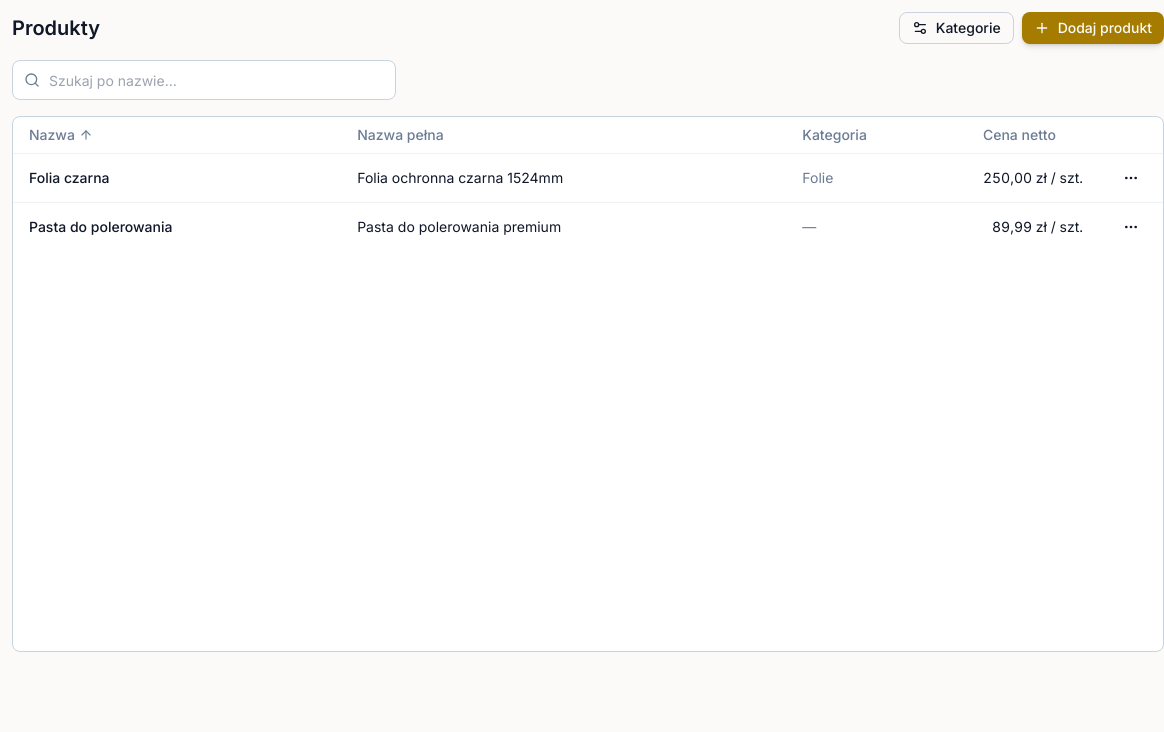
Test: SalesProductsView › dropdown menu contains delete option for a product
This screenshot has width=1164, height=732.
Expected: the text "Folia czarna" is shown, [13, 153, 341, 202]
Note: MoreHorizontal buttons have no visible text label
Click the button without text in the row of "Folia czarna" at {"x": 1131, "y": 178}, box [1115, 162, 1147, 194]
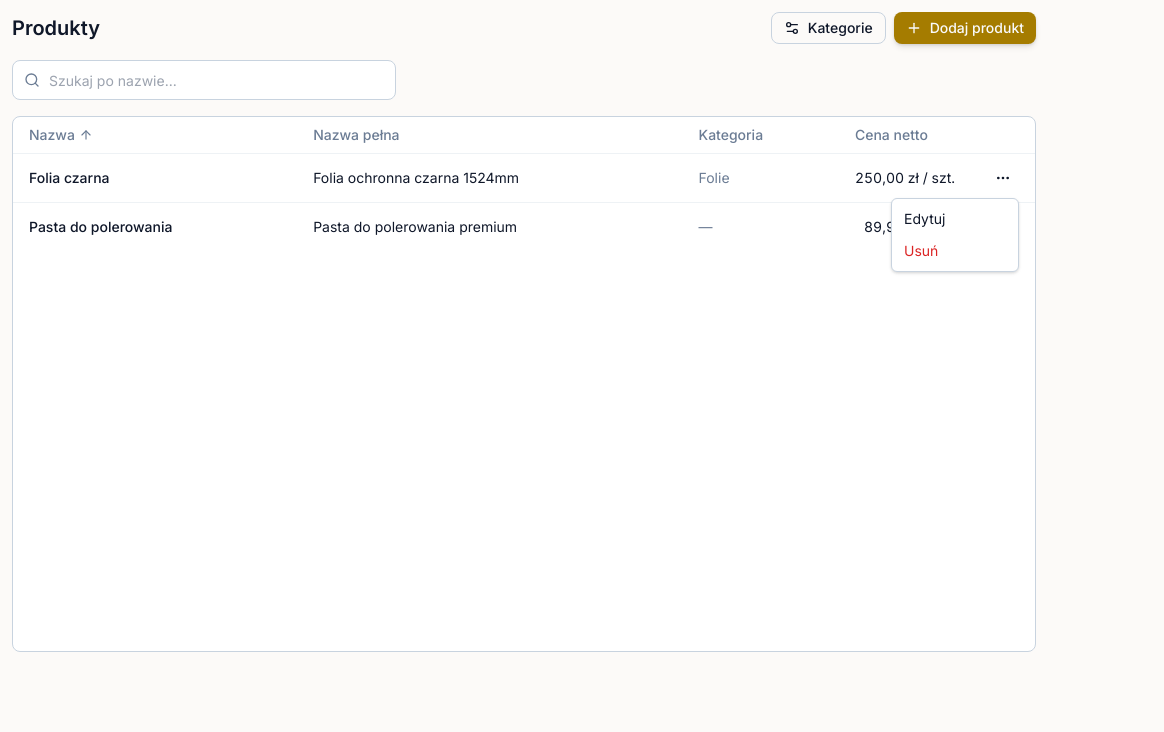
Expected: the menu item "Usuń" is shown, [896, 235, 1014, 267]
